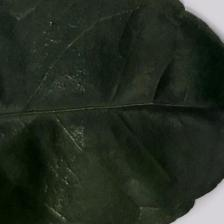healthy: (0, 11, 220, 216)
